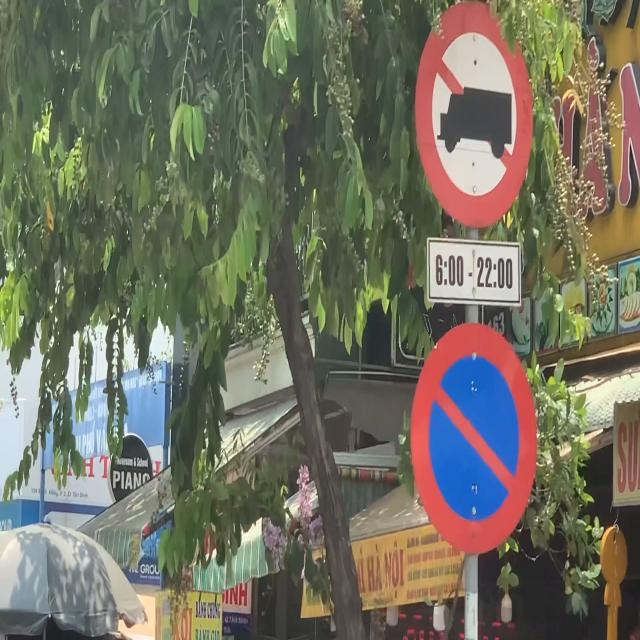Cam con lai: (420, 6, 533, 226)
Cam do: (413, 318, 540, 554)
